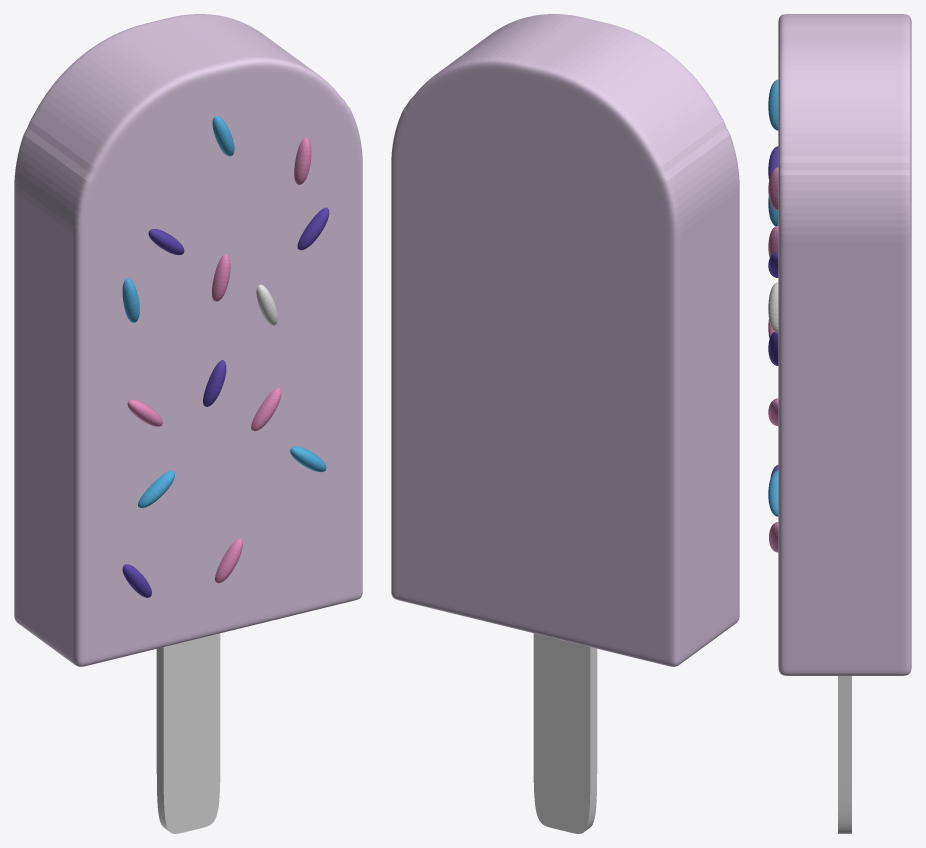
The model's file is bar_icecream.fbx.
3 views of the same model, side by side, from view 1: azimuth 30°, elevation 25°; view 2: azimuth 150°, elevation 25°; view 3: azimuth 270°, elevation 25° (orthographic).
Parts seen in each view (by area): view 1: 큐브.001, 큐브.016, 큐브.006, 큐브.010, 큐브.007, 큐브.004; view 2: 큐브.001, 큐브.016; view 3: 큐브.001, 큐브.016, 큐브.015, 큐브.009, 큐브.005, 큐브.014, 큐브.007.
Boxes of the visible parts, <box> form: 큐브.001: <box>14,14,362,666</box>; 큐브.016: <box>156,633,220,833</box>; 큐브.006: <box>251,387,281,431</box>; 큐브.010: <box>297,207,329,250</box>; 큐브.007: <box>203,360,226,406</box>; 큐브.004: <box>138,470,174,507</box>; 큐브.001: <box>391,14,739,666</box>; 큐브.016: <box>533,633,597,833</box>; 큐브.001: <box>778,14,911,675</box>; 큐브.016: <box>838,676,851,833</box>; 큐브.015: <box>768,79,778,130</box>; 큐브.009: <box>768,282,778,332</box>; 큐브.005: <box>768,470,778,516</box>; 큐브.014: <box>768,167,778,210</box>; 큐브.007: <box>768,331,778,365</box>.
Bounding box in the file's own units: 44.24 × 115 × 18.96.
